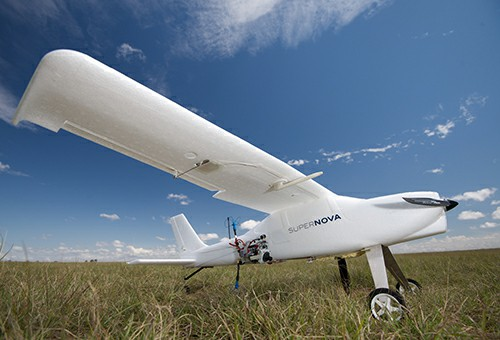maybay_khongnguoilai: (18, 52, 459, 319)
